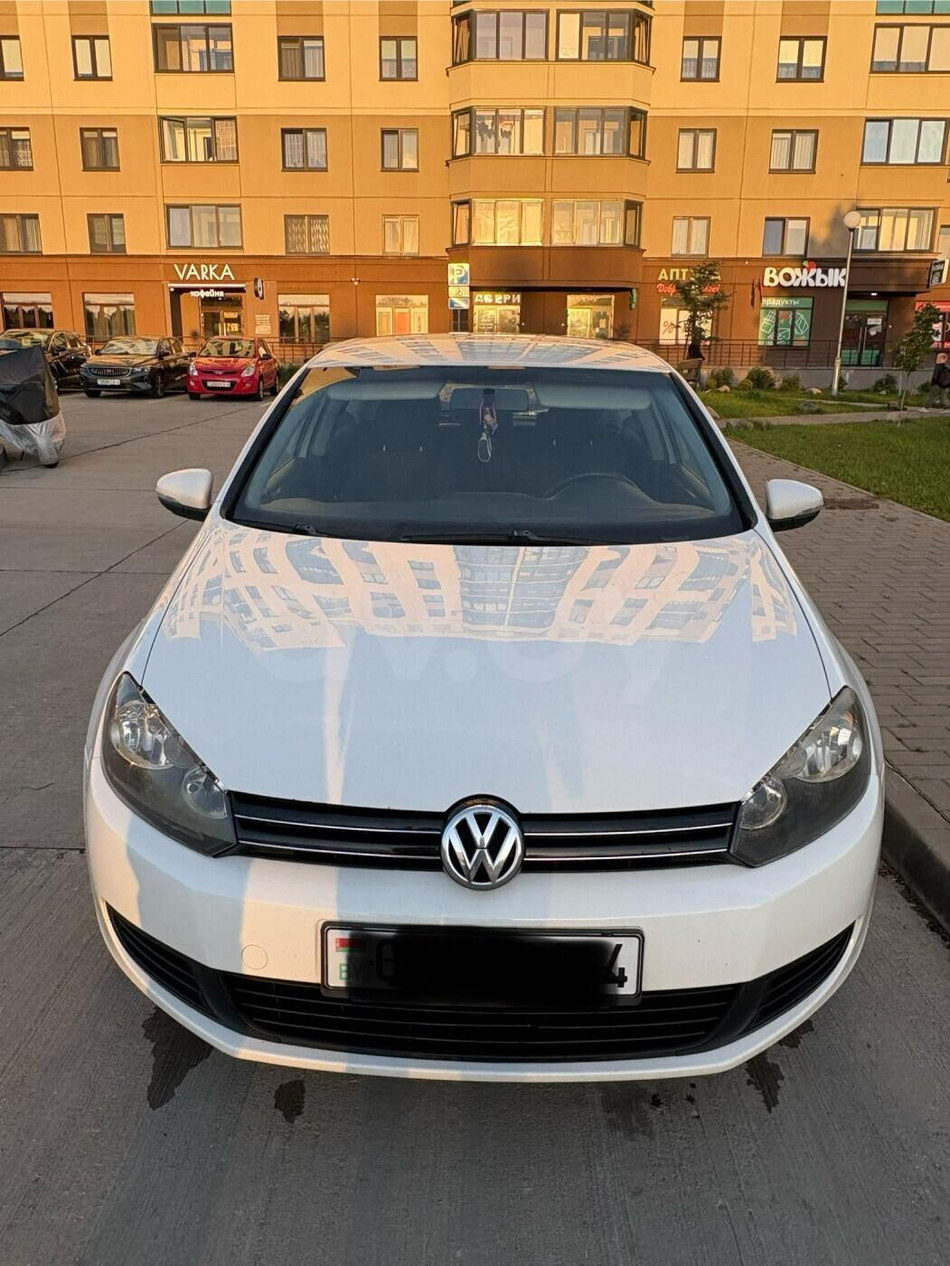Golf_2008-2013: (90, 331, 892, 1107)
